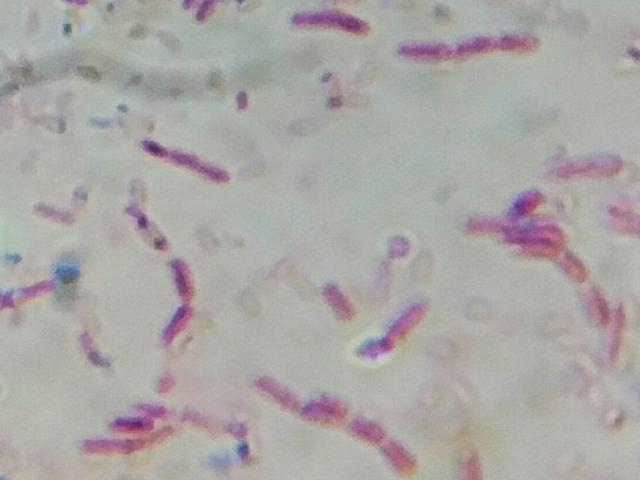E. coli: (135, 127, 239, 186), (404, 31, 543, 65), (283, 3, 382, 38), (168, 406, 272, 437), (378, 293, 431, 352), (5, 267, 66, 317), (552, 149, 623, 186), (515, 240, 581, 277), (93, 425, 167, 457), (471, 217, 562, 240), (319, 273, 358, 320), (152, 305, 196, 345), (128, 205, 175, 241), (602, 202, 639, 241), (169, 255, 199, 302), (171, 0, 225, 26), (612, 302, 634, 365), (508, 183, 541, 217), (315, 387, 349, 418), (259, 370, 286, 409), (383, 440, 415, 470), (586, 283, 608, 326), (351, 415, 378, 441), (112, 410, 139, 429)
